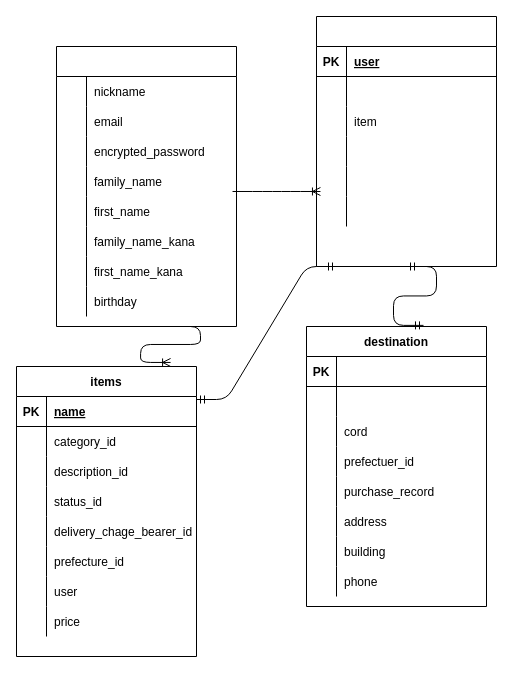
The diagram is 513 pixels wide and 673 high, and some of its shapes have lost their labels. Each missing label, with the box of its shape:
purchase_records: (316, 16, 496, 266)
users: (56, 46, 236, 326)
